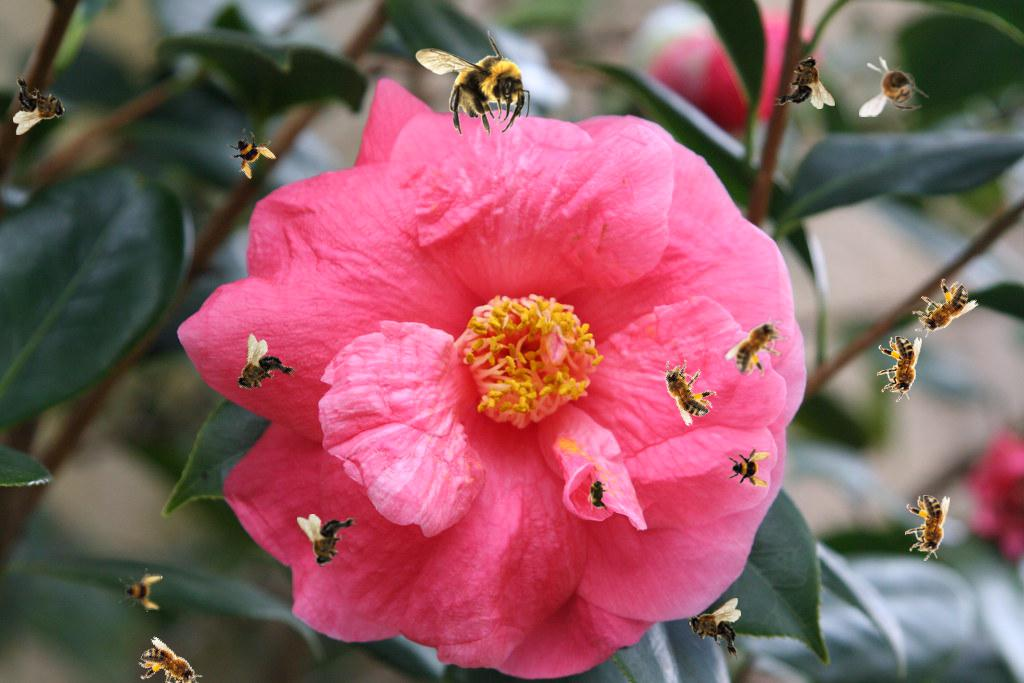Bee: (415, 30, 530, 137), (219, 330, 302, 412), (901, 270, 981, 349), (647, 348, 725, 429), (722, 305, 798, 386), (859, 56, 929, 117), (219, 120, 283, 184), (131, 635, 211, 683), (13, 73, 66, 135), (688, 598, 741, 660), (297, 514, 359, 567), (773, 56, 835, 109), (877, 336, 922, 402), (905, 495, 950, 561), (727, 445, 771, 489), (119, 568, 163, 612), (587, 474, 609, 514)
